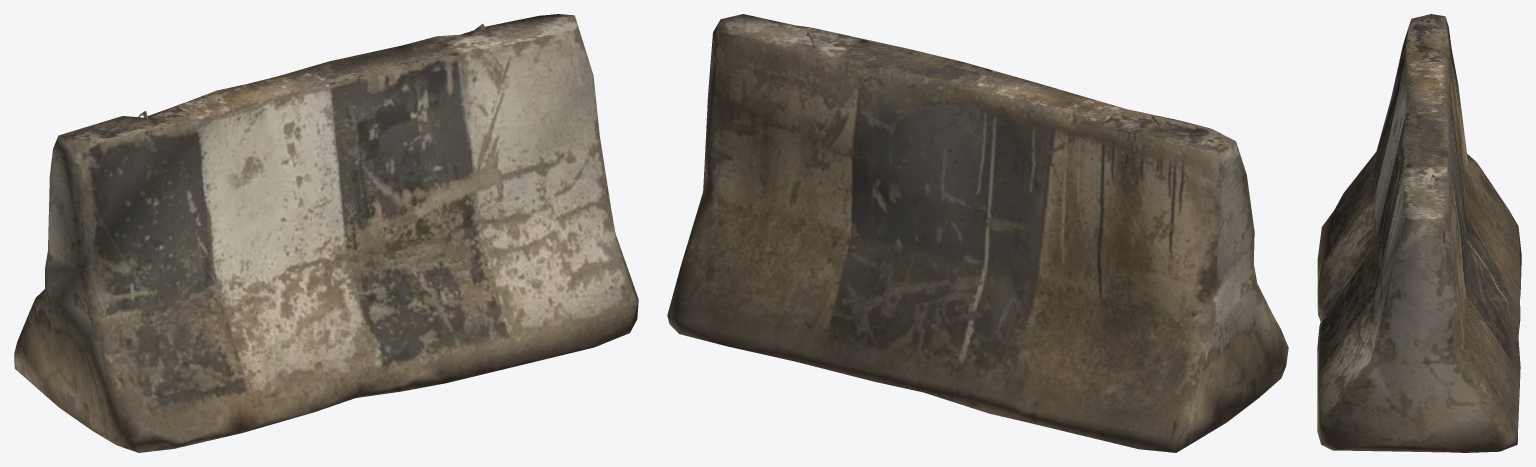
File: concrete_road_barrier.glb
3 views of the same model, side by side, from view 1: azimuth 30°, elevation 25°; view 2: azimuth 150°, elevation 25°; view 3: azimuth 270°, elevation 25° (orthographic). The views are drawn at different scales.
Visible parts, largest first — view 1: concrete_road_barrier; view 2: concrete_road_barrier; view 3: concrete_road_barrier.
Part boxes in pixels (left/top/right/bottom): concrete_road_barrier: left=14, top=14, right=638, bottom=452; concrete_road_barrier: left=667, top=14, right=1288, bottom=452; concrete_road_barrier: left=1317, top=14, right=1521, bottom=452.
Bounding box in the file's own units: 1.54 × 0.8296 × 0.6274.
Materials: 1 (1 with a texture image).
